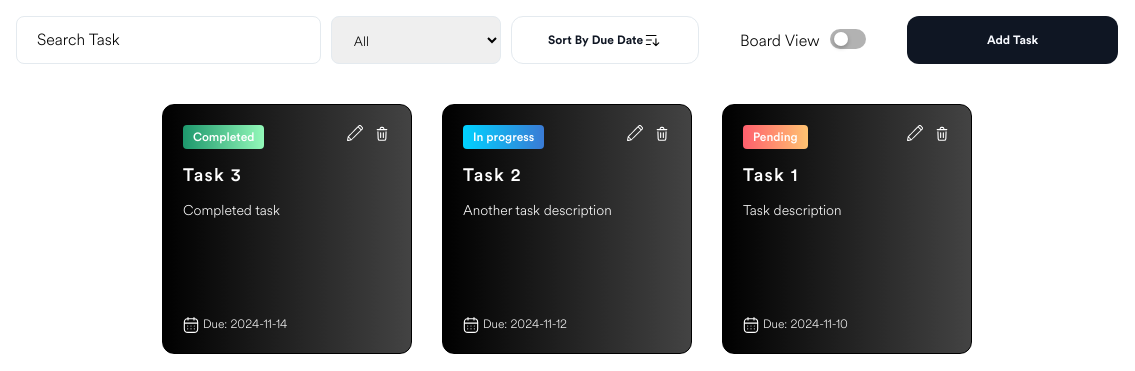
Test case: Home Component › sorts tasks based on due date
Click the button "Sort By Due Date".
click(605, 40)  # box [511,16,699,64]
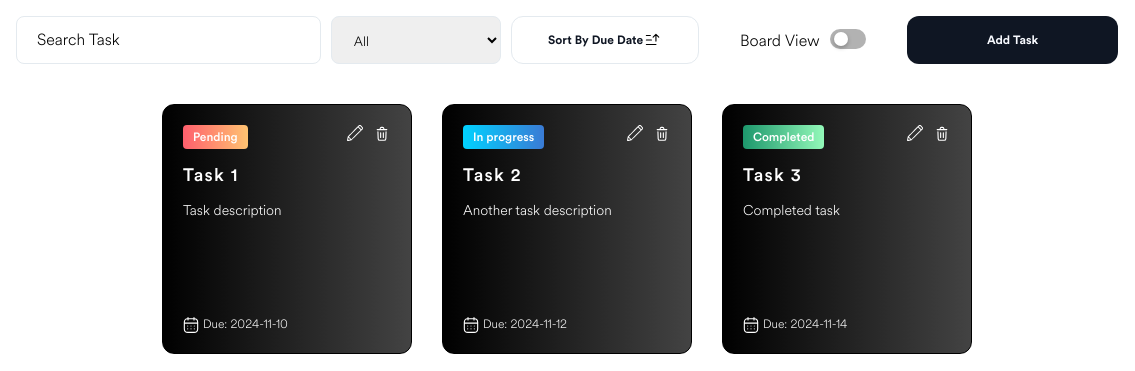
Expected: the text "Task 2" is shown, [463,166,522,184]
Now the text "Task 1" is shown, box [183,166,239,184]
Now the text "Task 3" is shown, box [743,166,802,184]
